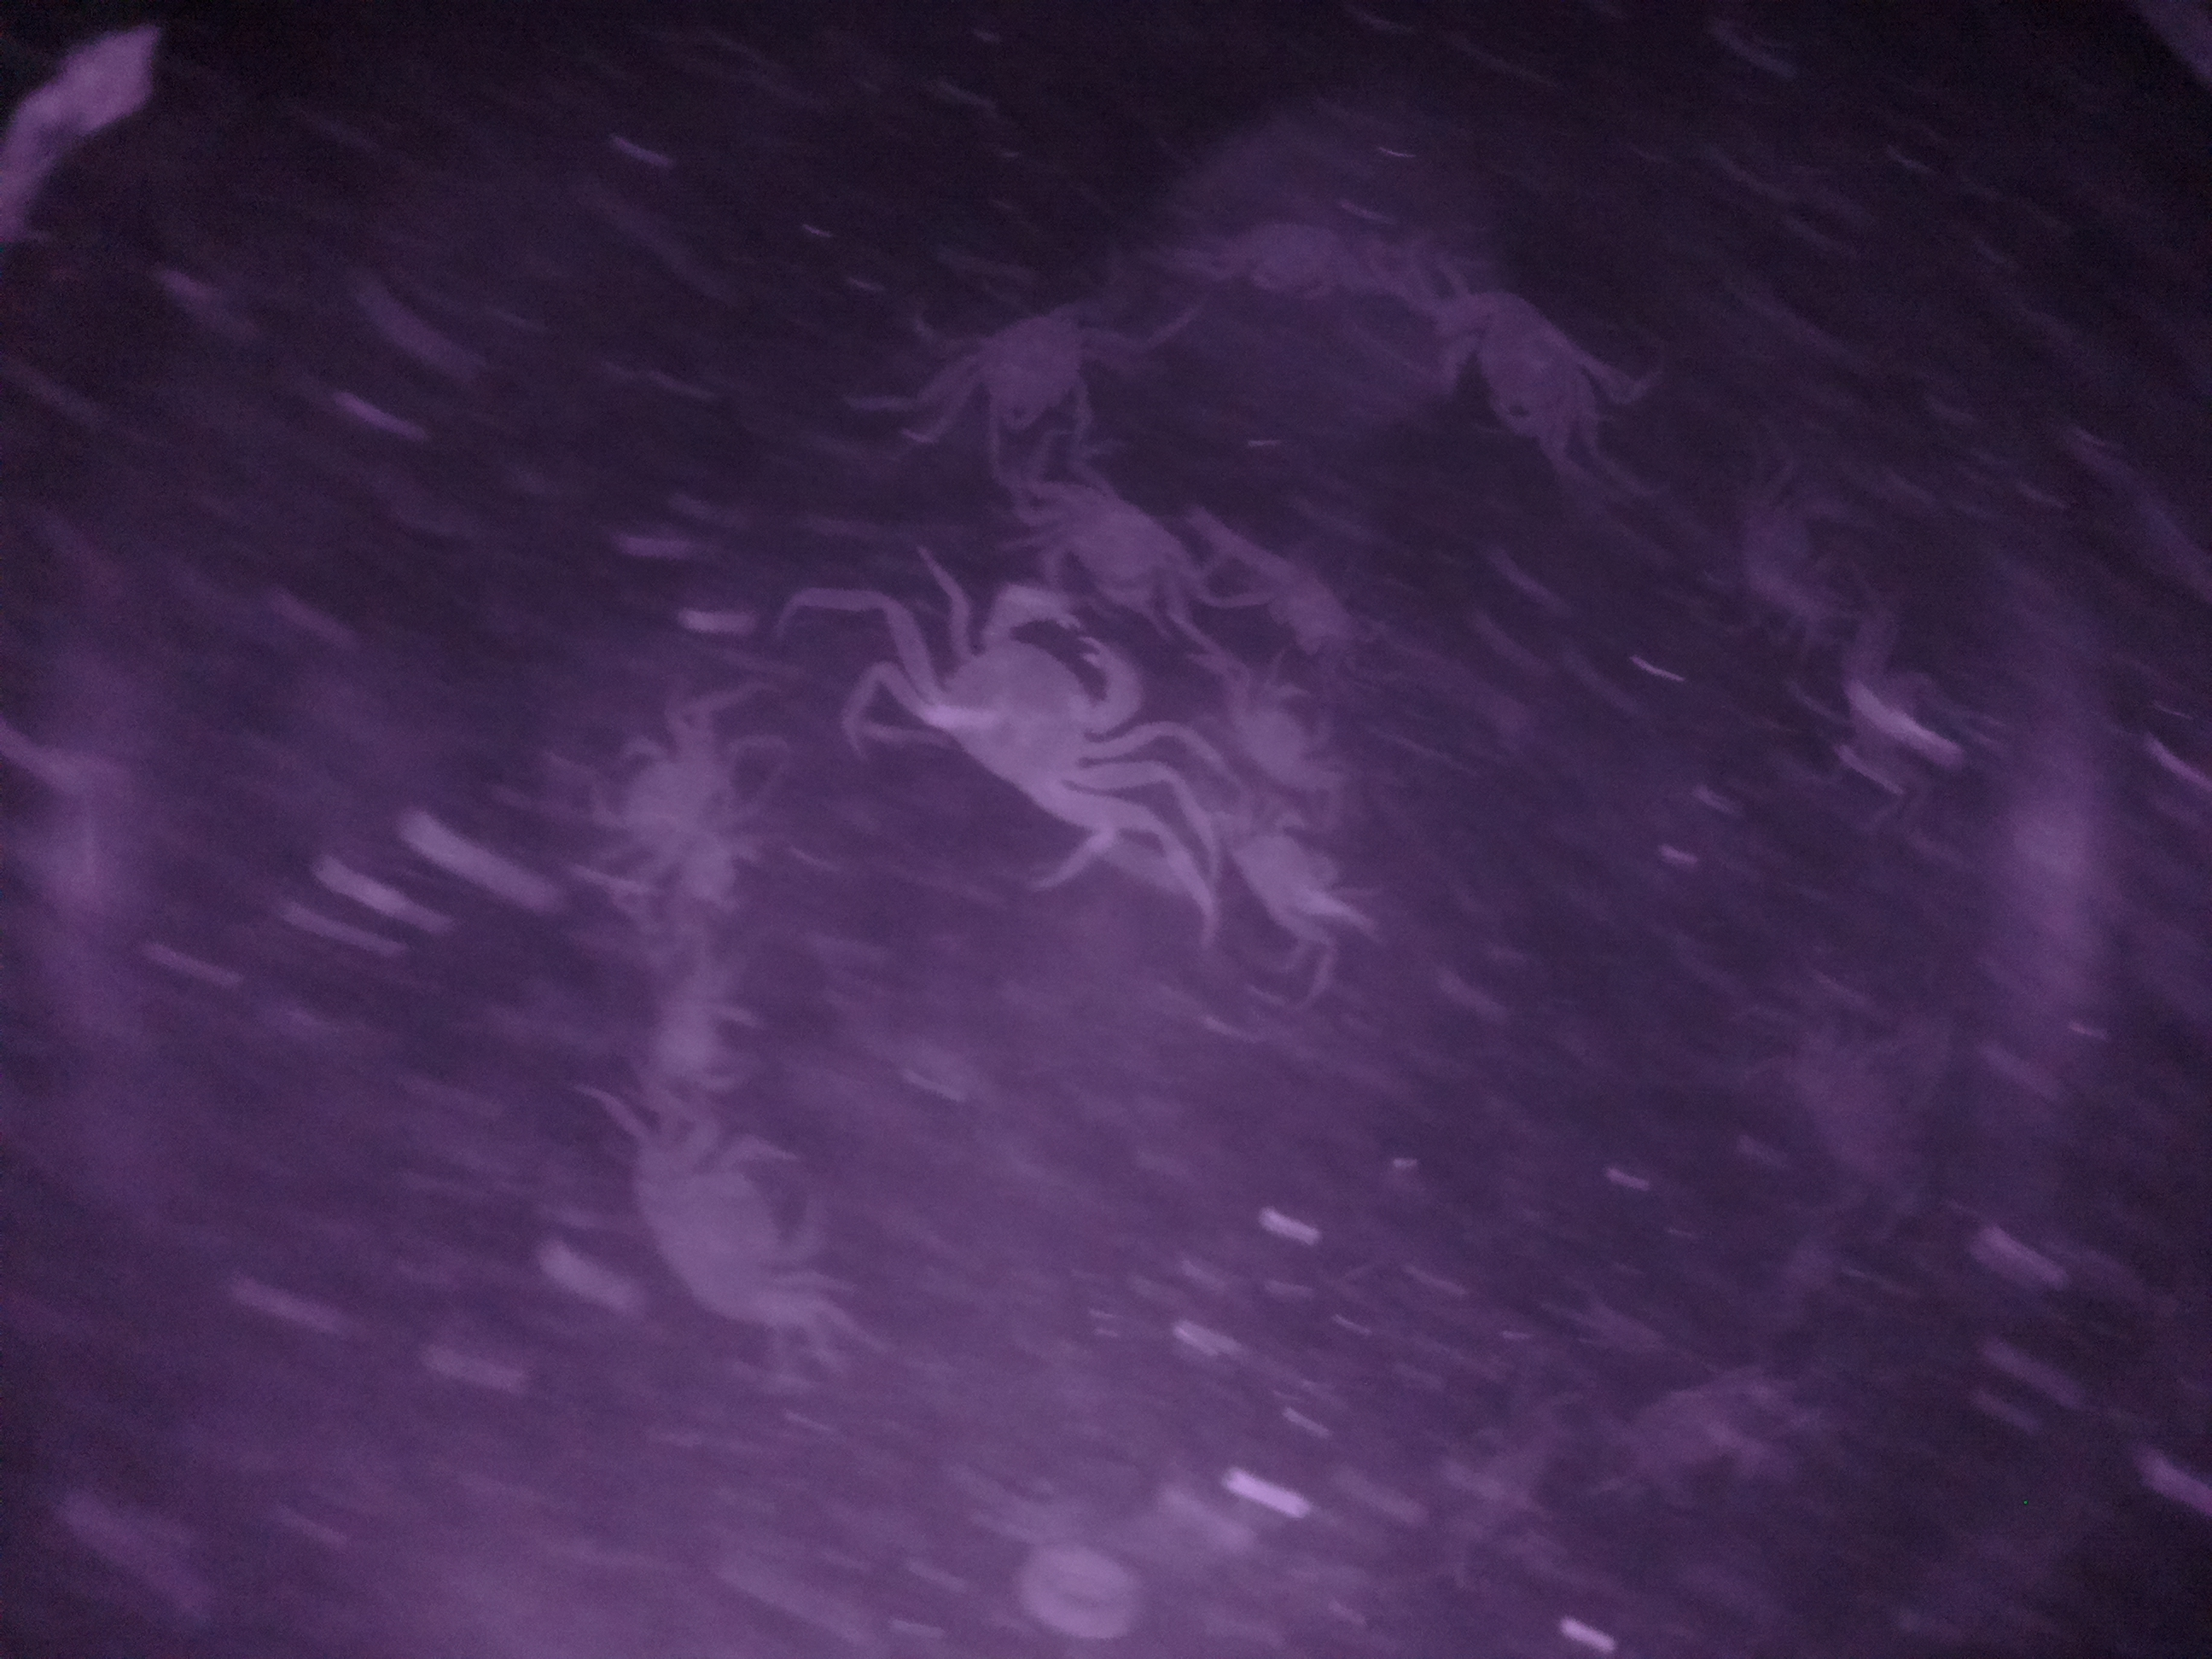Crab: (887, 589, 1144, 850), (921, 281, 1132, 455)
